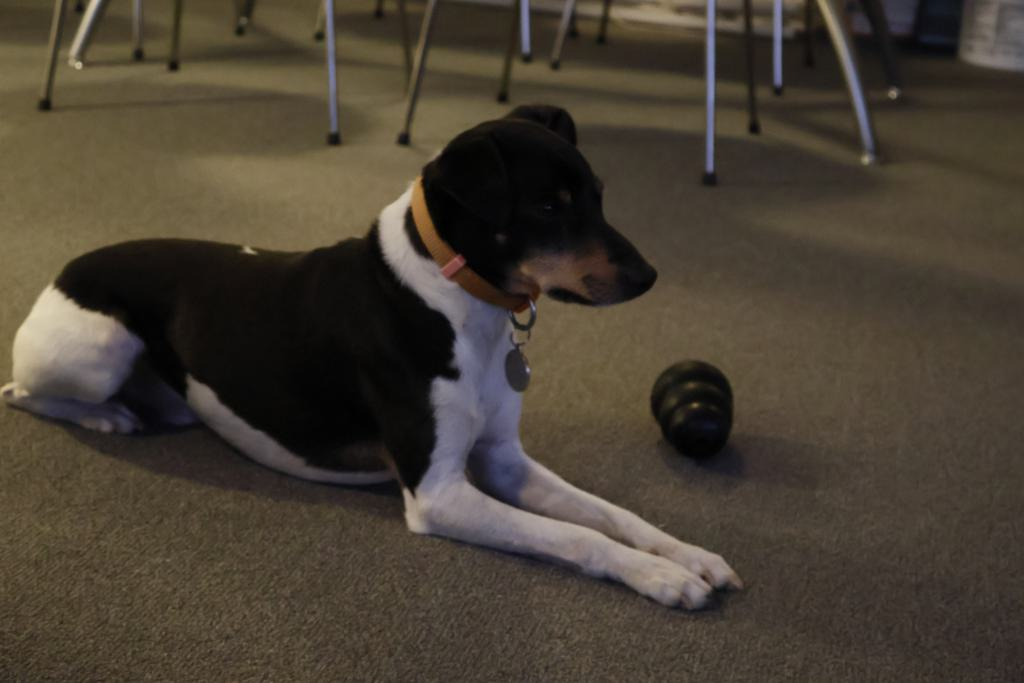Dog: (0, 92, 757, 618)
